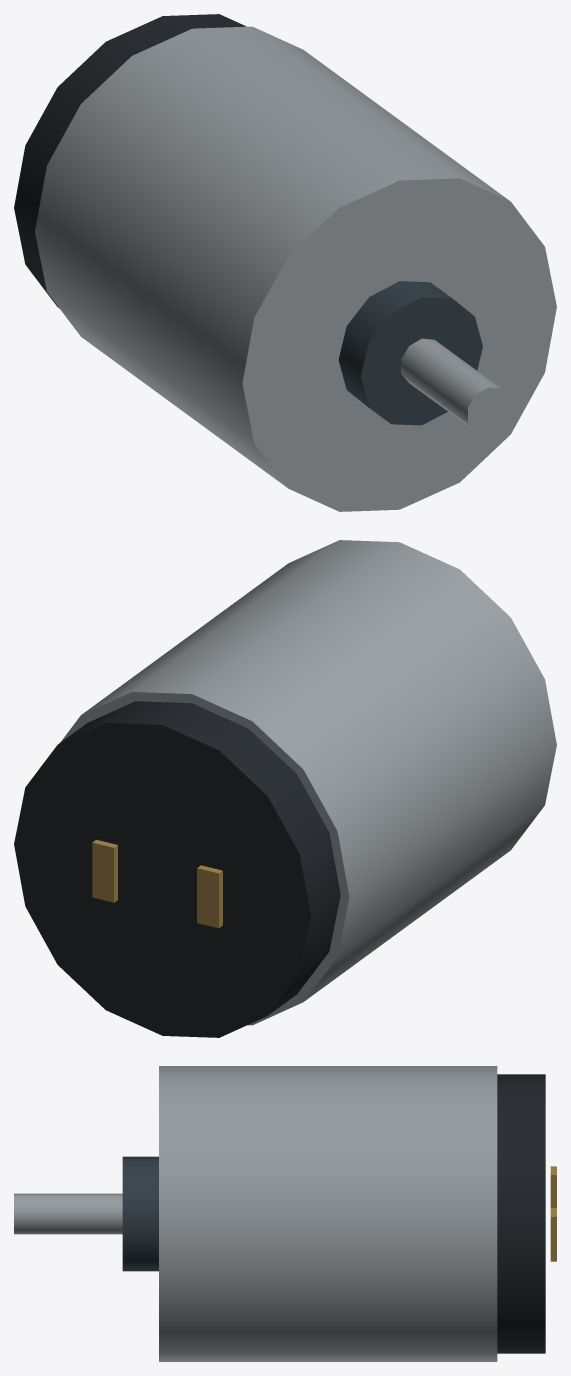
The model's file is cmp-motor.glb.
3 views of the same model, one above another, from view 1: azimuth 30°, elevation 25°; view 2: azimuth 150°, elevation 25°; view 3: azimuth 270°, elevation 25° (orthographic). The views are drawn at different scales.
Visible parts, largest first — view 1: STATIC_metal, STATIC_paint; view 2: STATIC_metal, STATIC_paint; view 3: STATIC_metal, STATIC_paint.
Boxes of the visible parts, x1=… form: STATIC_metal: x1=35, y1=26, x2=556, y2=511; STATIC_paint: x1=14, y1=14, x2=246, y2=308; STATIC_metal: x1=60, y1=540, x2=556, y2=1025; STATIC_paint: x1=14, y1=701, x2=340, y2=1037; STATIC_metal: x1=14, y1=1066, x2=556, y2=1361; STATIC_paint: x1=497, y1=1074, x2=545, y2=1353.
Bounding box in the file's own units: 0.036 × 0.036 × 0.066.
